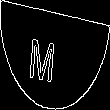M_N: (40, 26, 70, 84)
